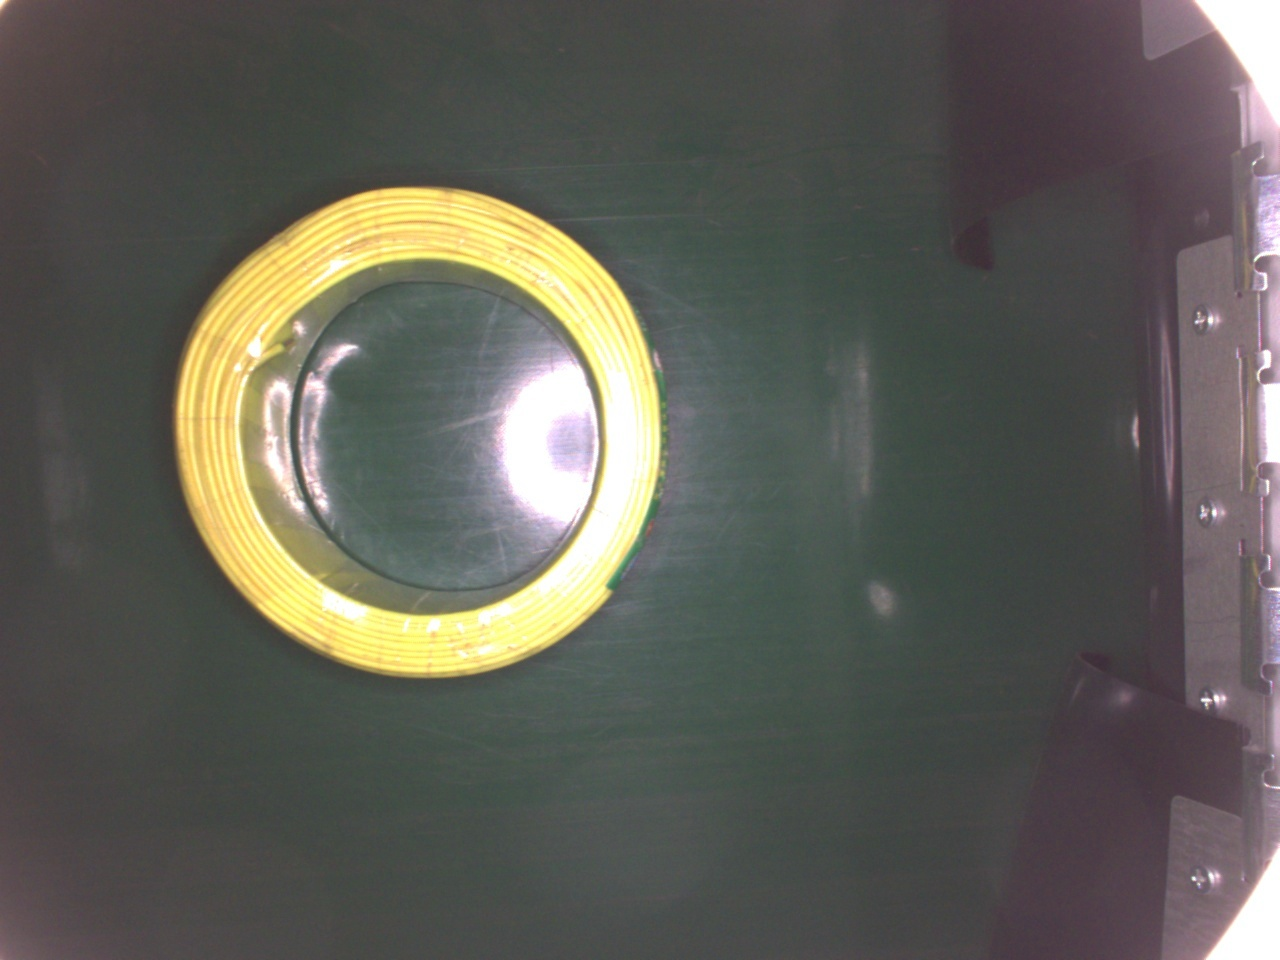yellow: (172, 185, 663, 679)
